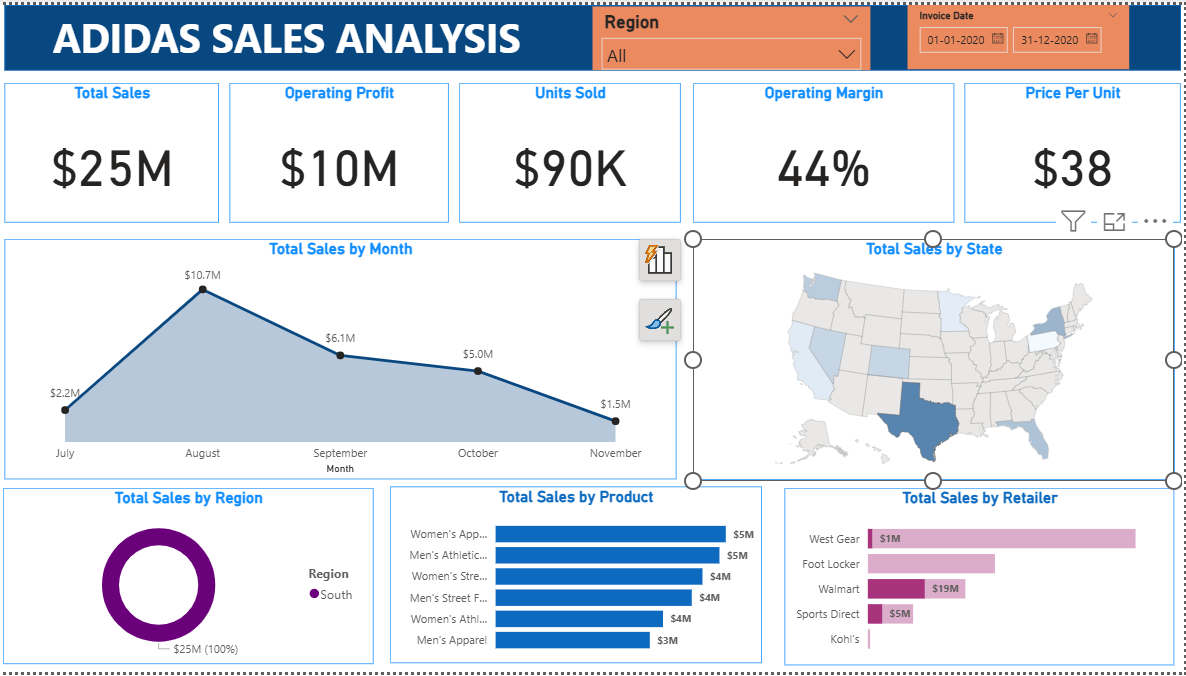

What the dashboard file says about the page in this screenshot:
{"tool":"powerbi","page":{"name":"Mini Project","canvas":[1280,720],"ordinal":0},"visuals":[{"type":"shape","box":[4.1,0,1269.9,70.9],"z":0},{"type":"textbox","box":[51.6,0,542.1,71.5],"z":1000},{"type":"card","title":" Total Sales","fields":{"Values":["Sum(Table1.Total Sales)"]},"box":[4.9,84.2,231.5,150.6],"z":2000},{"type":"card","title":" Operating Profit","fields":{"Values":["Sum(Table1.Operating Profit)"]},"box":[247.7,84.2,236.4,150.6],"z":3000},{"type":"card","title":" Units Sold","fields":{"Values":["Sum(Table1.Units Sold)"]},"box":[495.5,84.2,239.6,150.6],"z":4000},{"type":"card","title":" Operating Margin","fields":{"Values":["Table1.Average_operating_margin"]},"box":[748.1,84.2,281.7,150.6],"z":5000},{"type":"card","title":" Price Per Unit","fields":{"Values":["Table1.Average_price_per_unit"]},"box":[1041.2,84.2,233.2,150.6],"z":6000},{"type":"areaChart","title":" Total Sales by Month","fields":{"Y":["Sum(Table1.Total Sales)"],"Category":["Table1.Invoice Date.Variation.Date Hierarchy.Month"]},"box":[4.1,253.2,725.1,259.2],"z":7000},{"type":"shapeMap","title":"Total Sales by State","fields":{"Category":["Table1.State"],"Value":["Sum(Table1.Total Sales)"]},"box":[747.3,253.2,520,260],"z":8000},{"type":"donutChart","title":"Total Sales by Region","fields":{"Category":["Table1.Region"],"Y":["Sum(Table1.Total Sales)"]},"box":[3.2,521.4,400,190],"z":9000},{"type":"barChart","title":" Total Sales by Product","fields":{"Category":["Table1.Product"],"Y":["Sum(Table1.Total Sales)"]},"box":[421.3,520.5,401,190.4],"z":10000},{"type":"barChart","title":" Total Sales by Retailer","fields":{"Category":["Table1.Retailer"],"Y":["Sum(Table1.Total Sales)"]},"box":[846.9,521.4,421,191.1],"z":11000},{"type":"slicer","fields":{"Values":["Table1.Region"]},"box":[640,2,299.7,68.9],"z":12000},{"type":"slicer","fields":{"Values":["Table1.Invoice Date"]},"box":[979.6,0,239.6,69.6],"z":13000}]}

Visuals, with their boxes in screenshot pixels (x1, y1, x2, y2), scaled from the page's 1280x720 canvas onto the 1186x676 screenshot:
shape: (x1=4, y1=0, x2=1180, y2=67)
textbox: (x1=48, y1=0, x2=550, y2=67)
" Total Sales" card: (x1=5, y1=79, x2=219, y2=220)
" Operating Profit" card: (x1=230, y1=79, x2=449, y2=220)
" Units Sold" card: (x1=459, y1=79, x2=681, y2=220)
" Operating Margin" card: (x1=693, y1=79, x2=954, y2=220)
" Price Per Unit" card: (x1=965, y1=79, x2=1181, y2=220)
" Total Sales by Month" areaChart: (x1=4, y1=238, x2=676, y2=481)
"Total Sales by State" shapeMap: (x1=692, y1=238, x2=1174, y2=482)
"Total Sales by Region" donutChart: (x1=3, y1=490, x2=374, y2=668)
" Total Sales by Product" barChart: (x1=390, y1=489, x2=762, y2=667)
" Total Sales by Retailer" barChart: (x1=785, y1=490, x2=1175, y2=669)
slicer - Table1.Region: (x1=593, y1=2, x2=871, y2=67)
slicer - Table1.Invoice Date: (x1=908, y1=0, x2=1130, y2=65)
